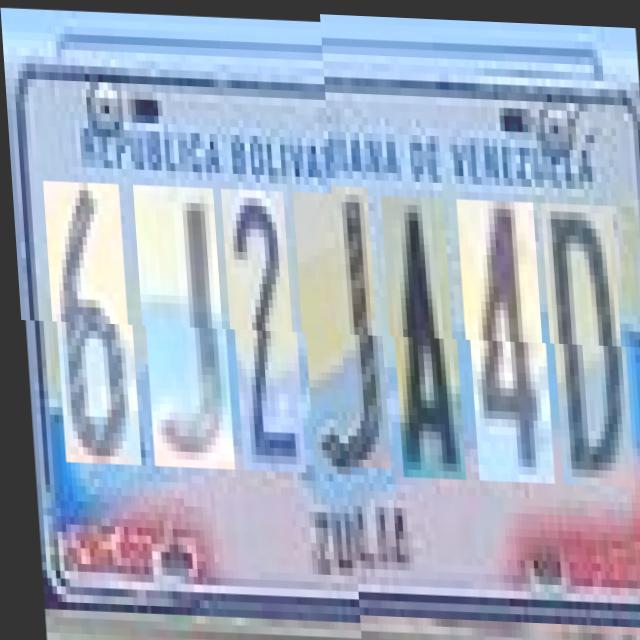2: (223, 187, 300, 470)
4: (458, 203, 548, 487)
6: (46, 180, 136, 464)
A: (383, 201, 460, 484)
D: (543, 206, 629, 489)
J: (134, 183, 229, 468), (294, 189, 384, 473)
